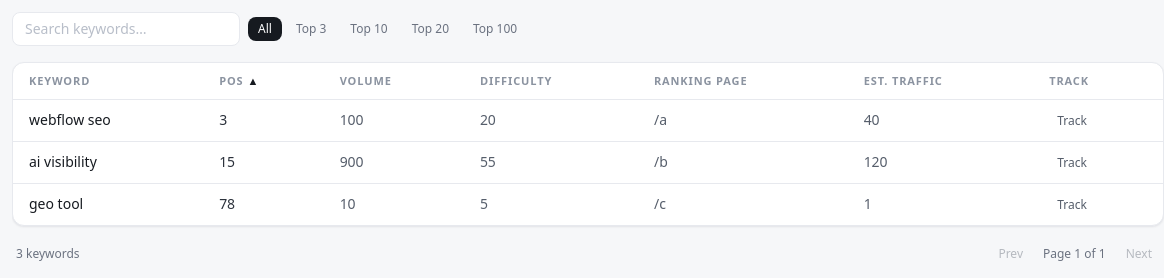
Test: OrganicKeywordsTable › Track posts the keyword to /api/keywords with the project's location/language, then shows Tracked (disabled)
Click the button "Track" in the row of "webflow seo".
click(1072, 121)  # box [1049, 111, 1095, 131]
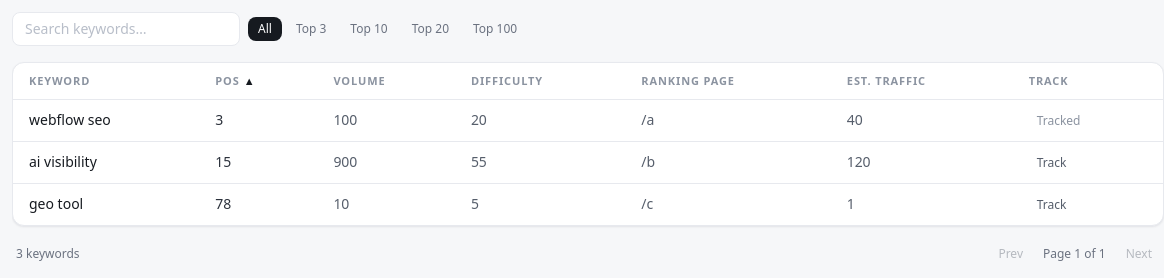
Expected: the button "Tracked" is disabled, [1029, 111, 1088, 131]
